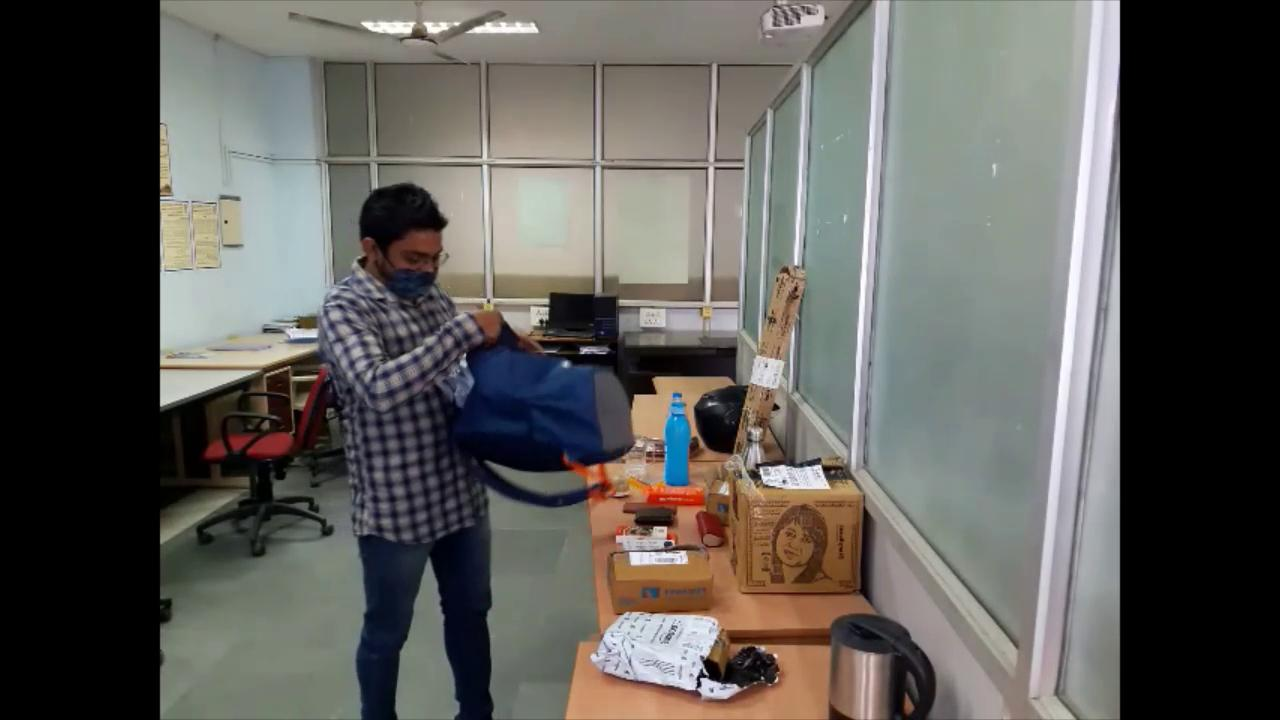shoplifting: (309, 169, 633, 720)
